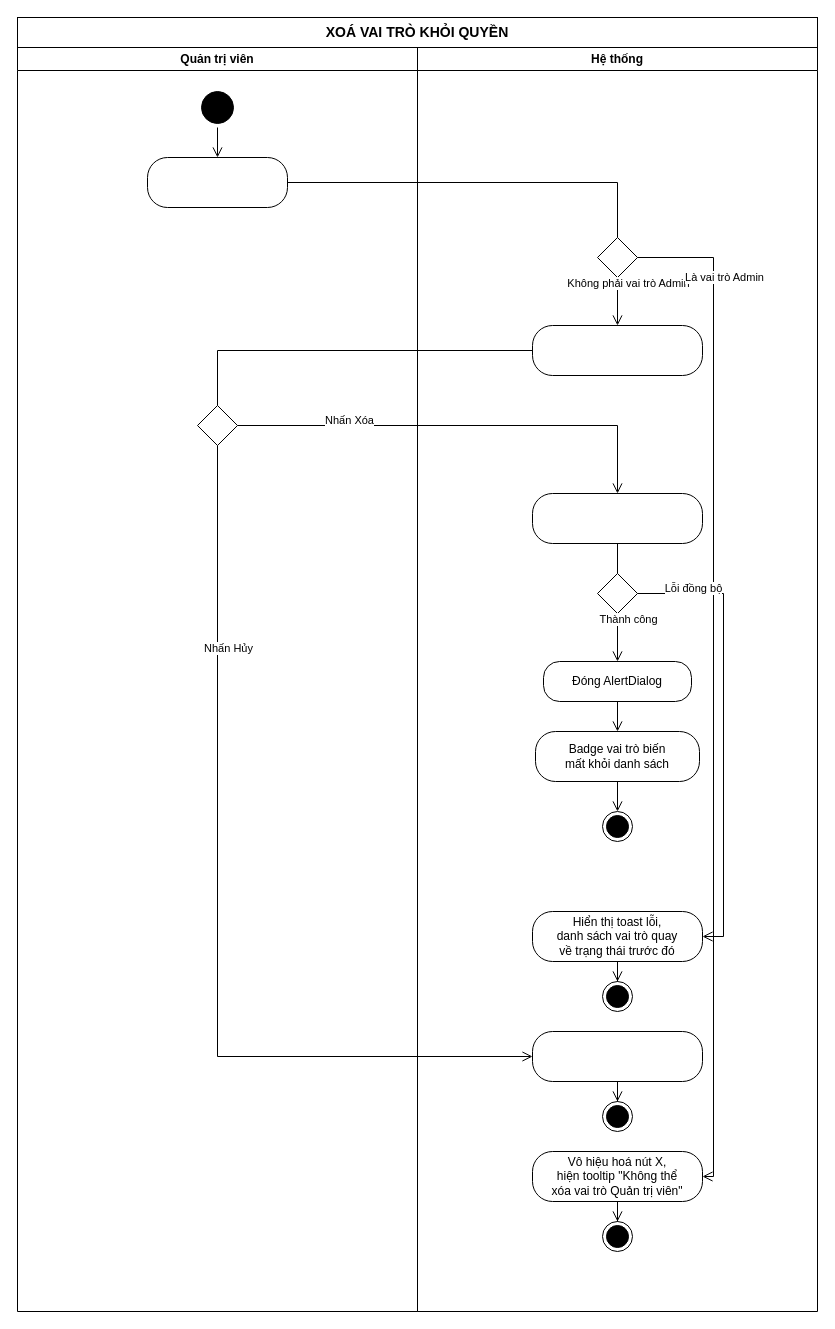
This 835x1329 diagram has some shape labels left out. Here are the shapes that lost their labels. From the top down, the centre of each, then its label:
the point at 217,182: Nhấn nút X trên badge vai trò
the point at 617,350: Hiển thị AlertDialog "Xoá vai trò khỏi quyền?"
the point at 617,518: Đồng bộ danh sách vai trò (loại bỏ vai trò đã chọn)
the point at 617,1056: Đóng AlertDialog, danh sách không đổi
